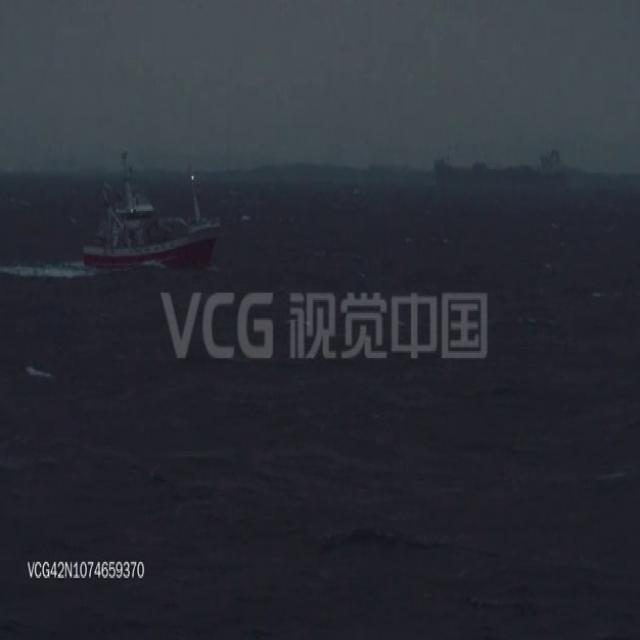houseboat: (80, 163, 221, 267)
